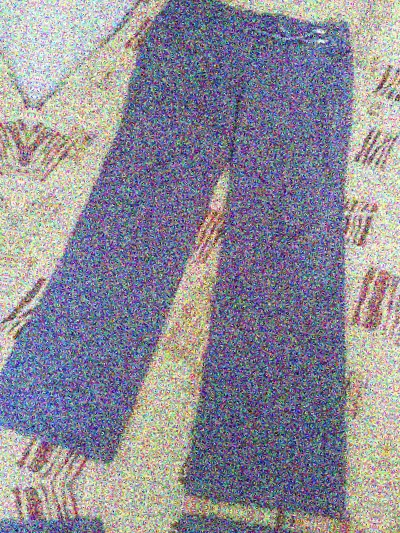Pants: (0, 0, 400, 521), (0, 0, 44, 459), (0, 482, 346, 533), (69, 0, 400, 6)
